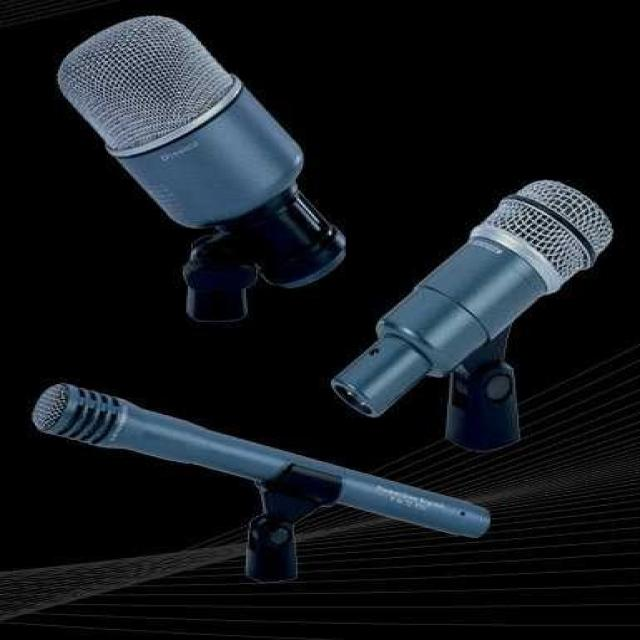microphone: (0, 369, 522, 529), (57, 18, 330, 272), (356, 166, 625, 416)
